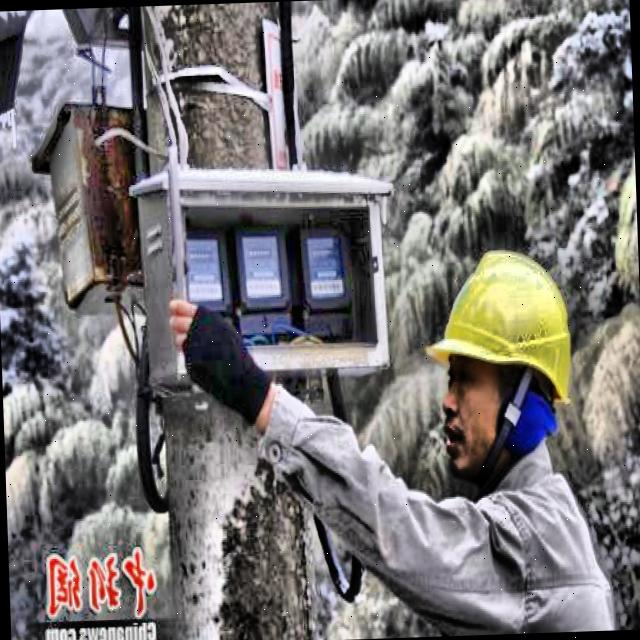helmet: (416, 228, 590, 499)
